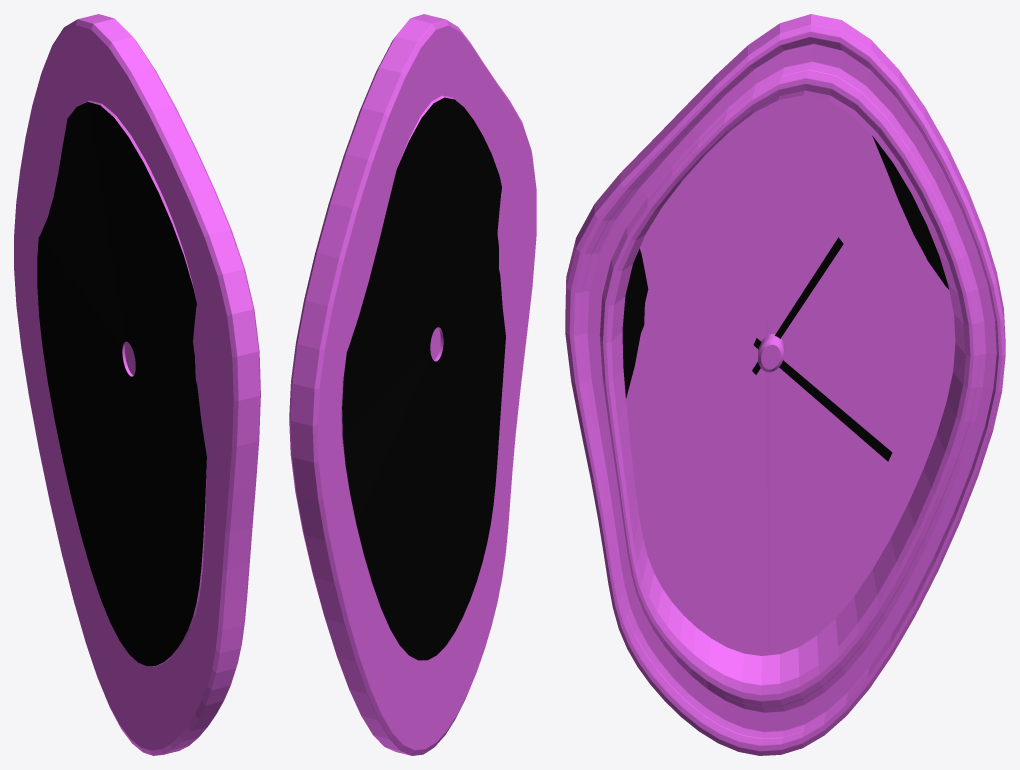
Rendered from melting clock2(SEP).fbx.
The picture shows the model from 3 angles, left to right: view 1: azimuth 30°, elevation 25°; view 2: azimuth 150°, elevation 25°; view 3: azimuth 270°, elevation 25°; orthographic projection. The views are drawn at different scales.
Visible parts, largest first — view 1: Cylinder, Cylinder.002; view 2: Cylinder, Cylinder.002; view 3: Cylinder, Cylinder.002, Cylinder.001.
Part boxes in pixels (left/top/right/bottom): Cylinder: left=14, top=14, right=259, bottom=755; Cylinder.002: left=77, top=29, right=260, bottom=695; Cylinder: left=290, top=14, right=536, bottom=755; Cylinder.002: left=289, top=19, right=454, bottom=712; Cylinder: left=565, top=14, right=1005, bottom=755; Cylinder.002: left=565, top=24, right=1005, bottom=710; Cylinder.001: left=752, top=237, right=892, bottom=651.
Size of the model in its own units: 43.89 by 536 by 296.
